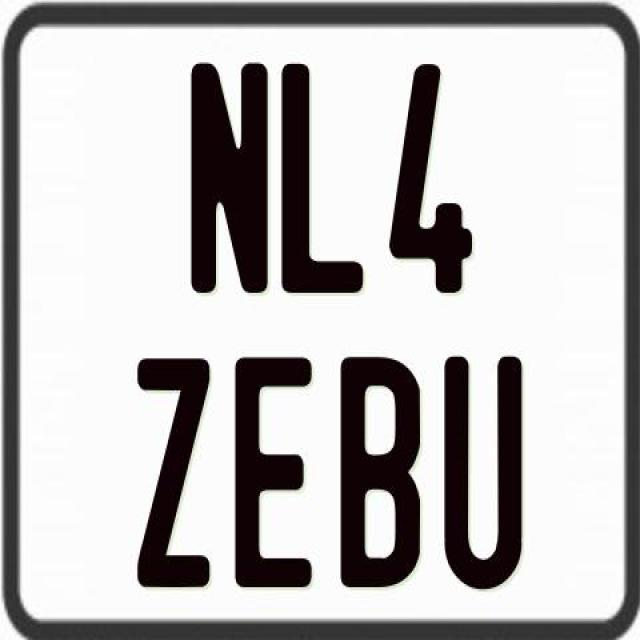4: (388, 59, 472, 293)
B: (340, 354, 423, 586)
E: (233, 355, 316, 592)
L: (278, 63, 366, 300)
N: (189, 59, 267, 291)
U: (444, 356, 530, 594)
Z: (133, 356, 210, 588)
